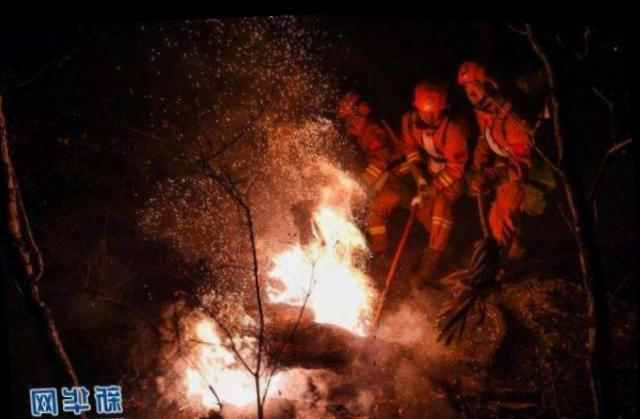fire: (261, 189, 371, 330), (182, 321, 273, 414)
